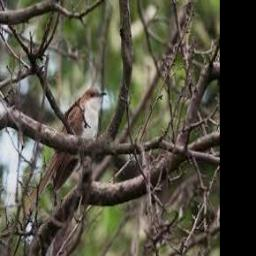Cuckoo: (20, 87, 106, 218)
